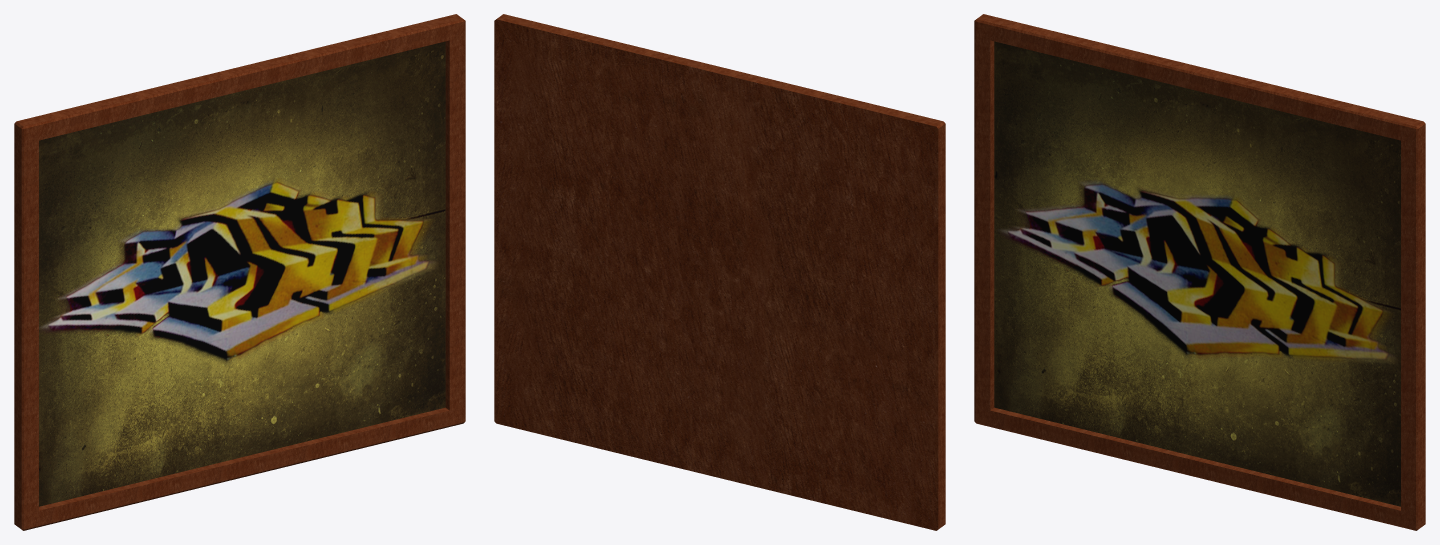
Rendered from Picture9.fbx.
3 renders of one model, left to right at view 1: azimuth 30°, elevation 25°; view 2: azimuth 150°, elevation 25°; view 3: azimuth 330°, elevation 25°, orthographic.
Visible parts, largest first — view 1: Empty_Mesh; view 2: Empty_Mesh; view 3: Empty_Mesh.
Boxes of the visible parts, x1,y1,x2,y2 form: Empty_Mesh: (14, 14, 465, 530); Empty_Mesh: (494, 14, 945, 530); Empty_Mesh: (974, 14, 1425, 530).
Bounding box in the file's own units: 184 × 160 × 5.68.
